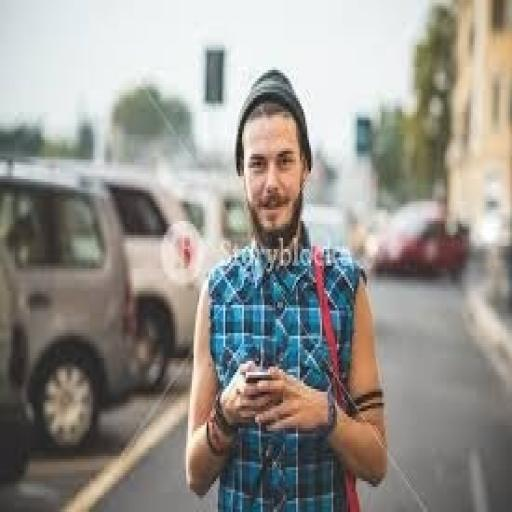texting: (183, 64, 389, 510)
